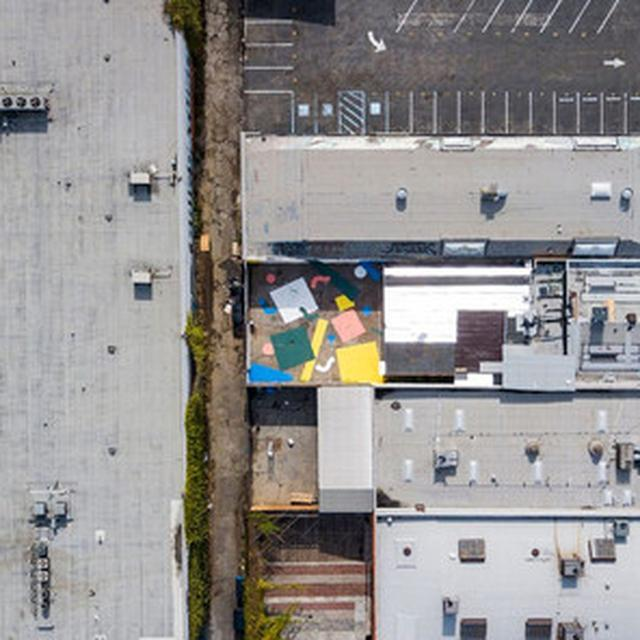building: (238, 136, 640, 640)
